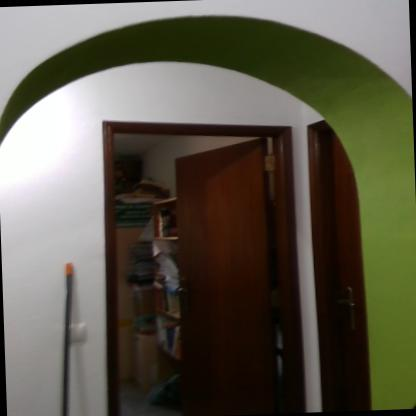open: (78, 108, 313, 416)
